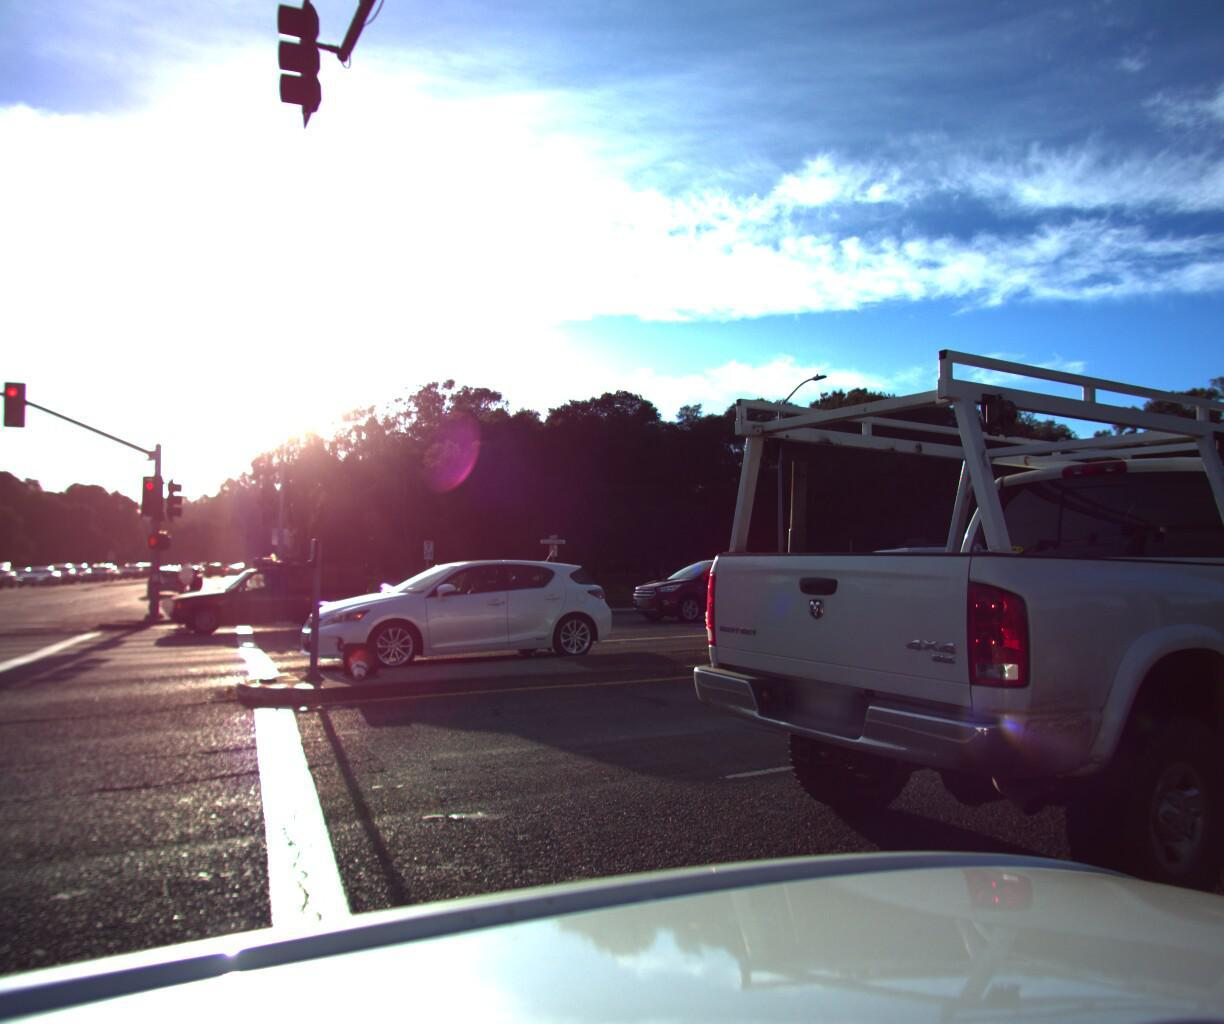car: (672, 322, 1224, 1024), (282, 558, 627, 686), (688, 550, 951, 655), (158, 556, 370, 640), (825, 538, 991, 621), (633, 554, 797, 633), (143, 563, 189, 596), (16, 566, 64, 592)
